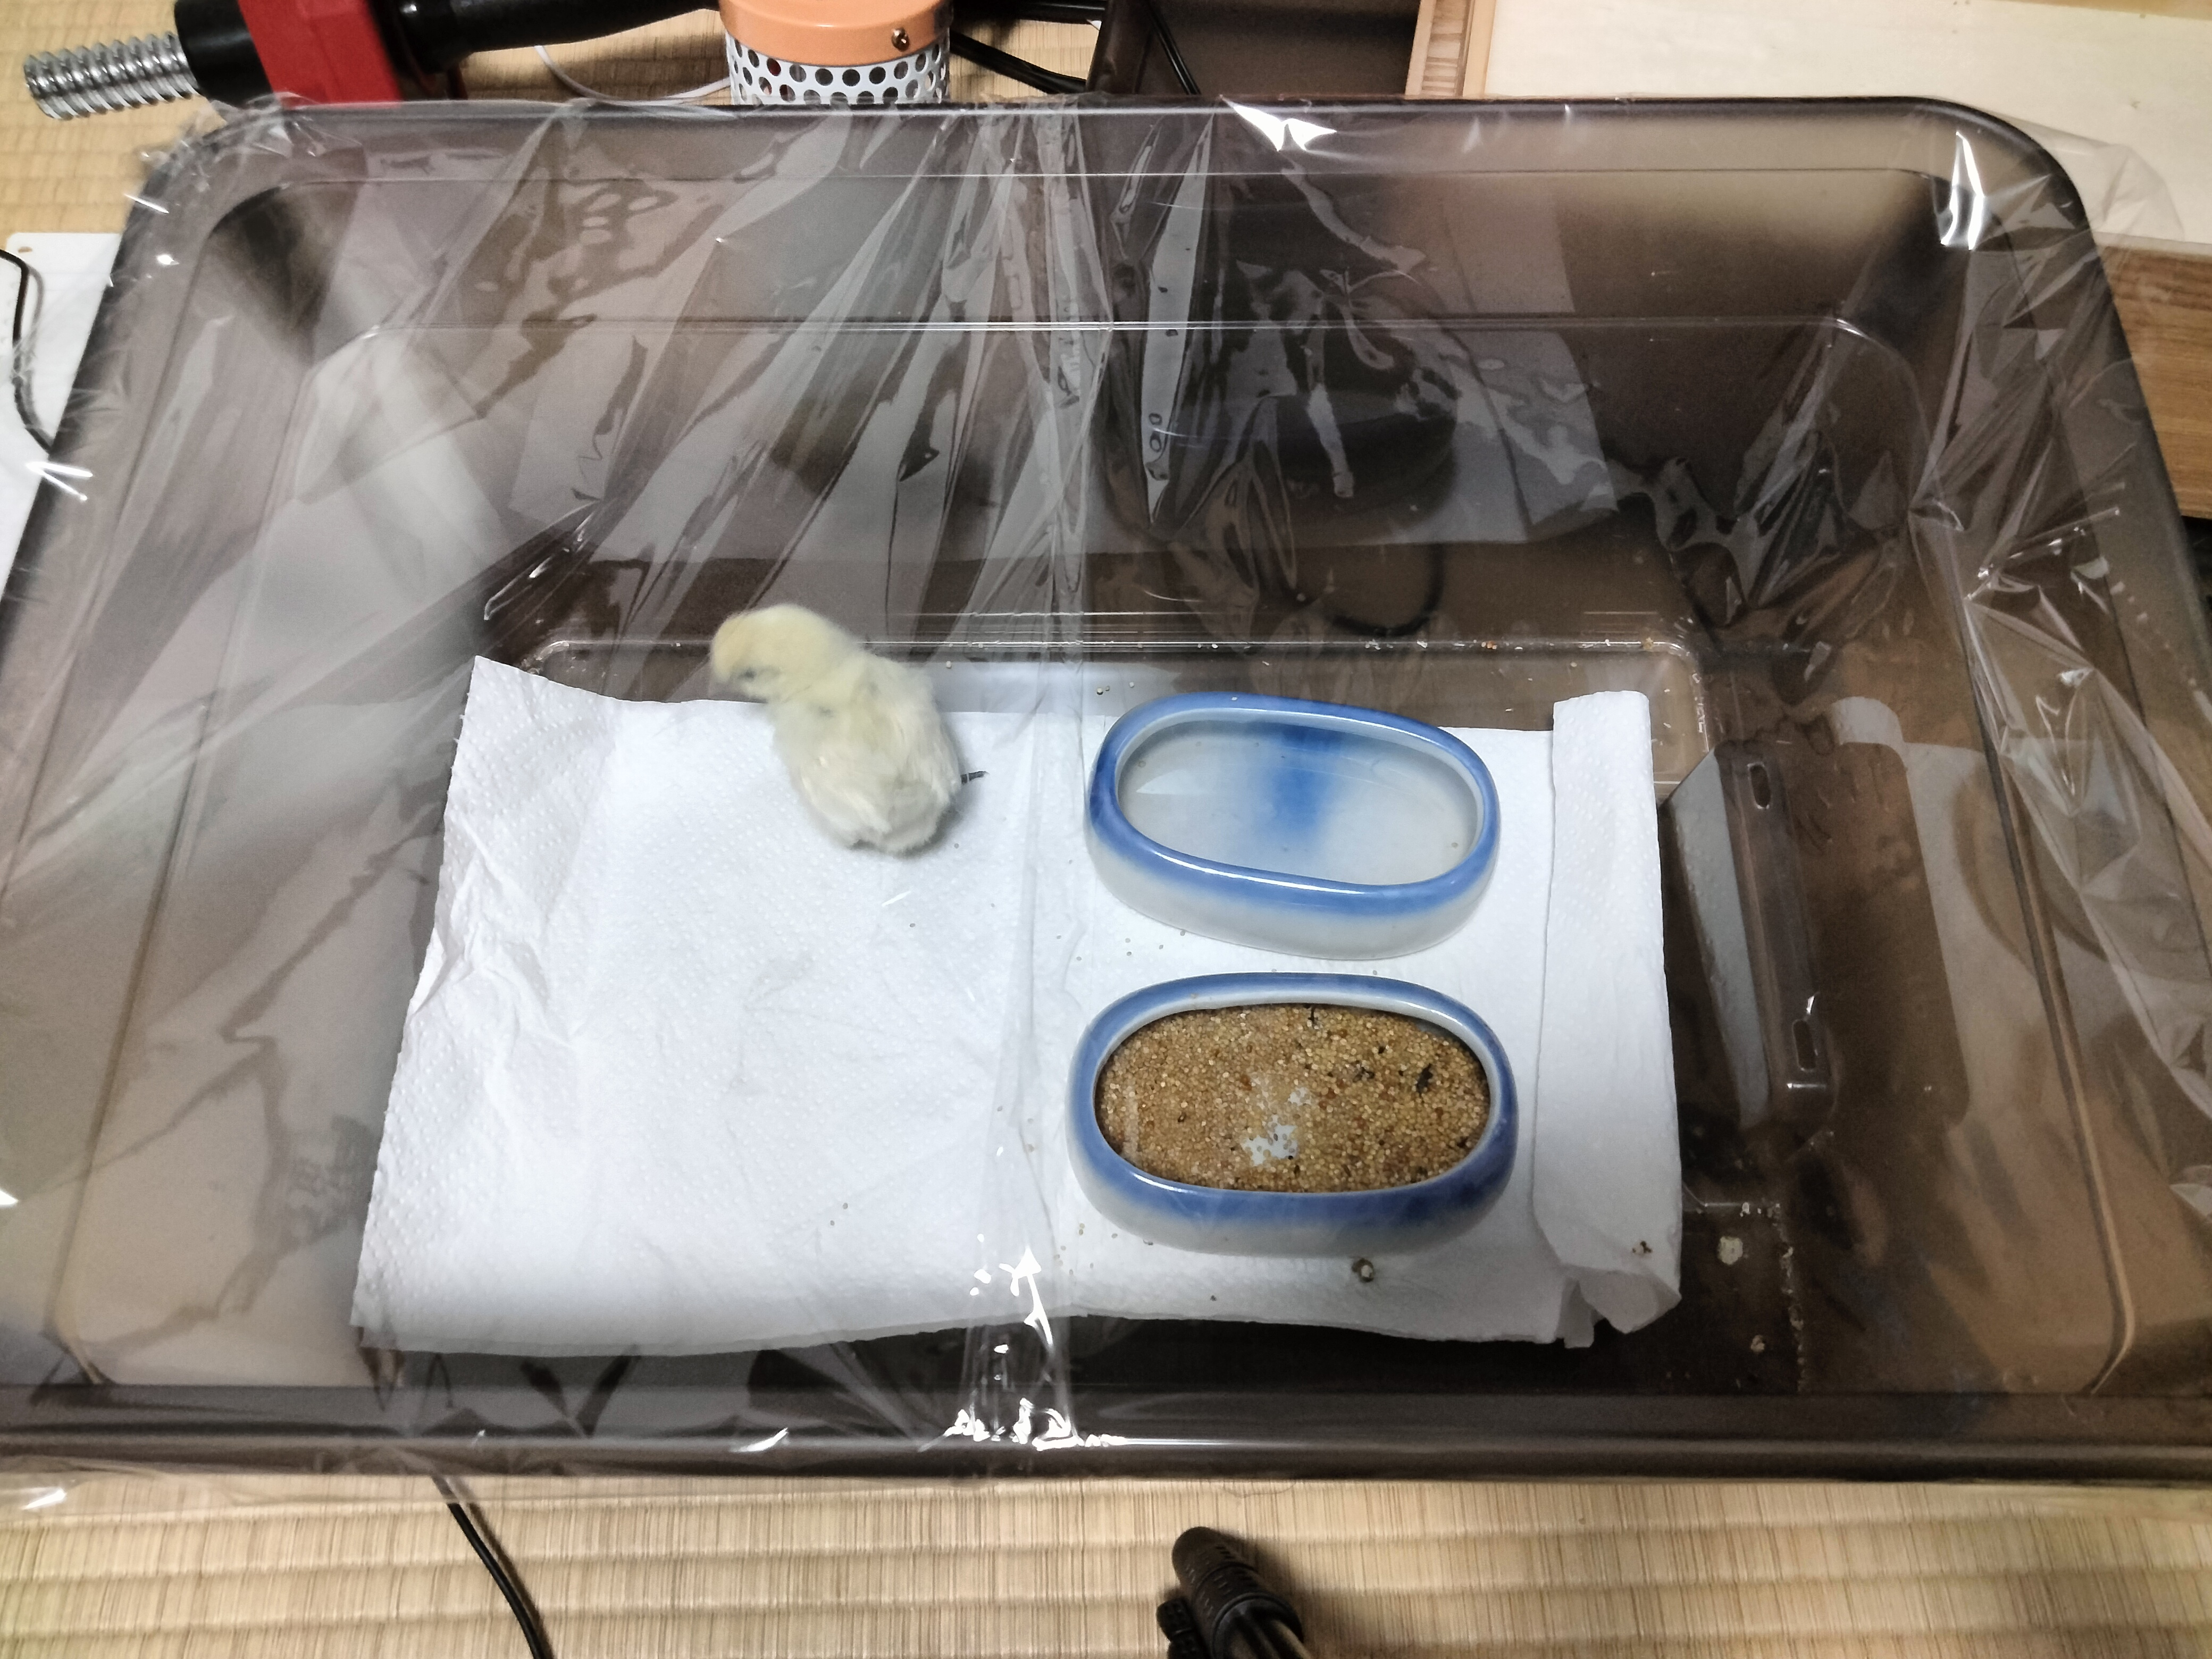shiro: (690, 549, 1015, 877)
